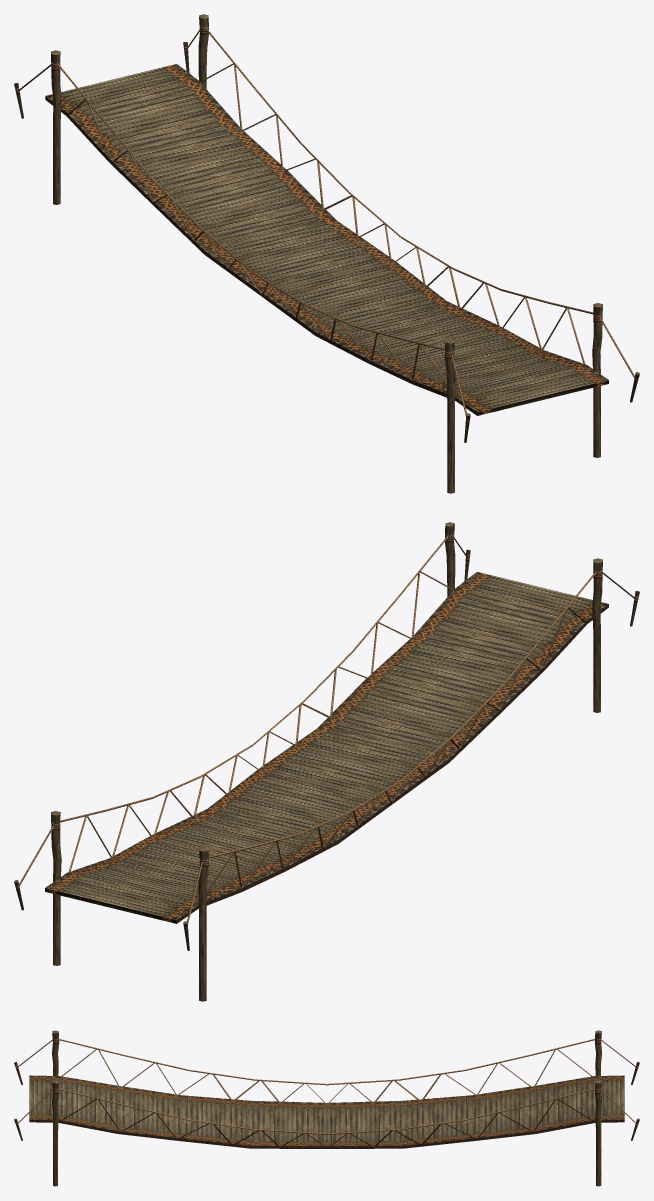
Rendered from general_obj_suspension bridge02.fbx.
The picture shows the model from 3 angles, top to bottom: view 1: azimuth 30°, elevation 25°; view 2: azimuth 150°, elevation 25°; view 3: azimuth 270°, elevation 25°; orthographic projection. The views are drawn at different scales.
Parts seen in each view (by area): view 1: general_obj_suspension bridge02; view 2: general_obj_suspension bridge02; view 3: general_obj_suspension bridge02.
Boxes of the visible parts, x1,y1,x2,y2 form: general_obj_suspension bridge02: (14, 14, 639, 493); general_obj_suspension bridge02: (14, 522, 639, 1001); general_obj_suspension bridge02: (14, 1030, 639, 1186).
Bounding box in the file's own units: 10.44 × 8.8 × 47.59.
